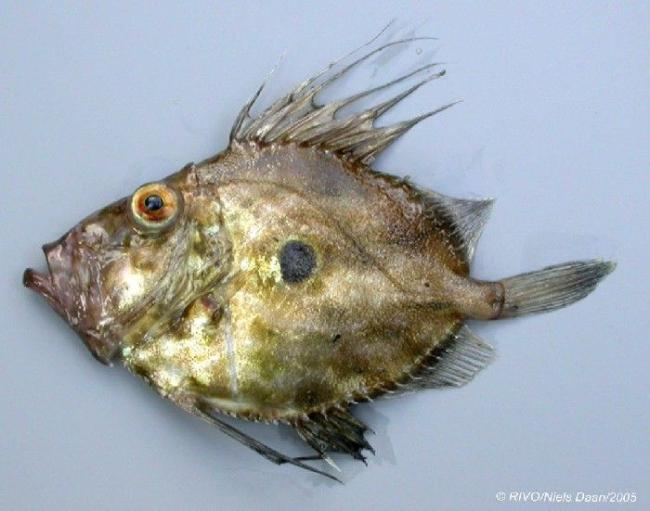fish: (23, 18, 617, 487)
